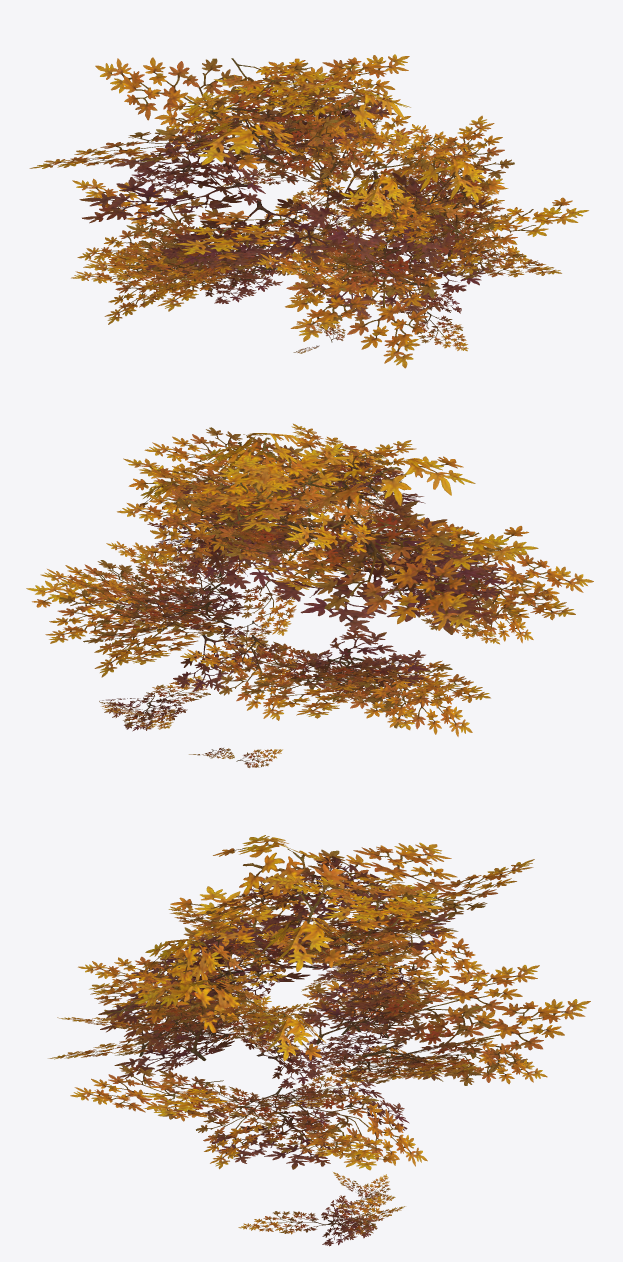
Rendered from Yland1_yz_06 Yland1.FBX.
3 renders of one model, top to bottom at view 1: azimuth 30°, elevation 25°; view 2: azimuth 150°, elevation 25°; view 3: azimuth 270°, elevation 25°, orthographic. The views are drawn at different scales.
Parts seen in each view (by area): view 1: Yland1_yz_06 Yland1; view 2: Yland1_yz_06 Yland1; view 3: Yland1_yz_06 Yland1.
Part boxes in pixels (x1,y1,x2,y2): Yland1_yz_06 Yland1: [29, 54, 588, 368]; Yland1_yz_06 Yland1: [26, 423, 593, 767]; Yland1_yz_06 Yland1: [48, 835, 590, 1246].
Size of the model in its own units: 8.03 by 4.45 by 8.08.
